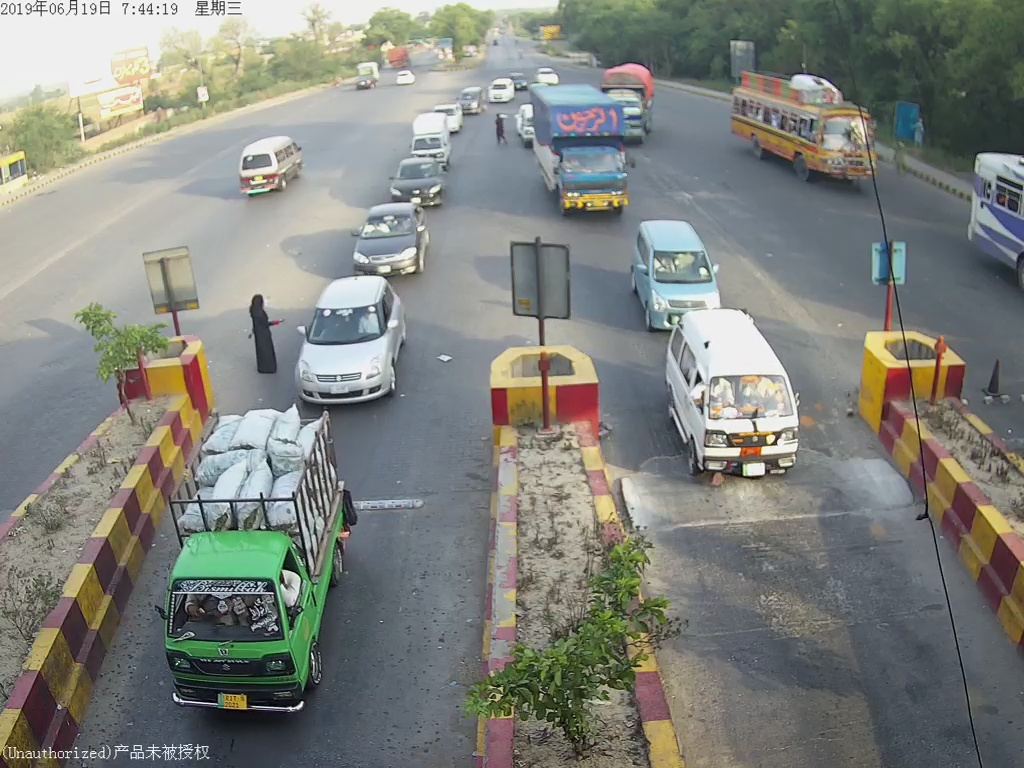Cat-1: (168, 414, 360, 720), (665, 314, 804, 478), (292, 283, 407, 408), (631, 222, 724, 312), (350, 207, 431, 278), (392, 154, 443, 205)
Cat-2: (531, 92, 636, 220)
